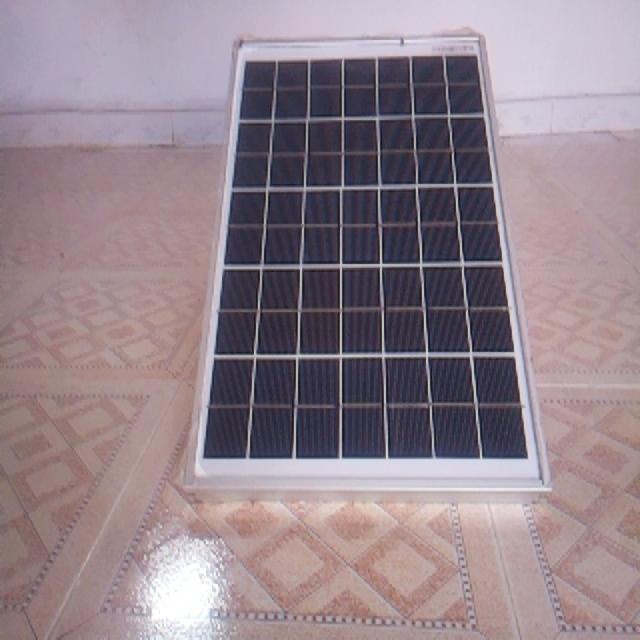Normal Solar Panel: (186, 29, 551, 503)
